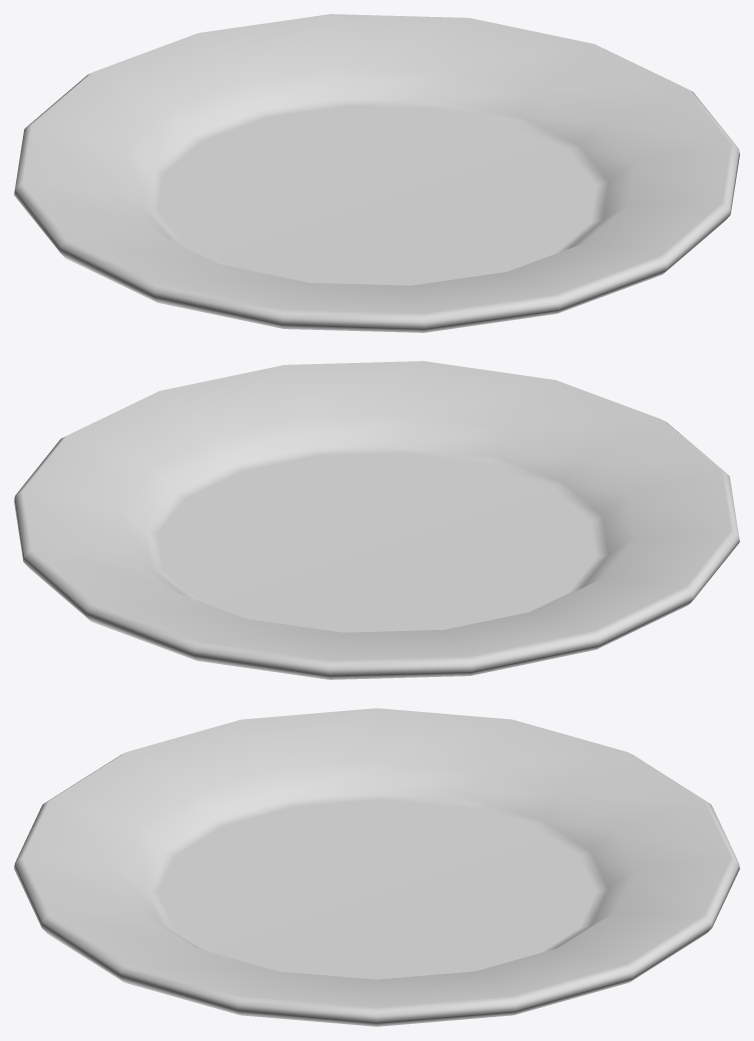
The model's file is Plate_Visual.glb.
3 views of the same model, one above another, from view 1: azimuth 30°, elevation 25°; view 2: azimuth 150°, elevation 25°; view 3: azimuth 270°, elevation 25° (orthographic).
Parts seen in each view (by area): view 1: Plate; view 2: Plate; view 3: Plate.
Part boxes in pixels (left/top/right/bottom): Plate: left=14, top=14, right=739, bottom=332; Plate: left=14, top=361, right=739, bottom=679; Plate: left=14, top=708, right=739, bottom=1026.
Size of the model in its own units: 1.06 by 0.0835 by 1.06.
1 material, 1 textured.
